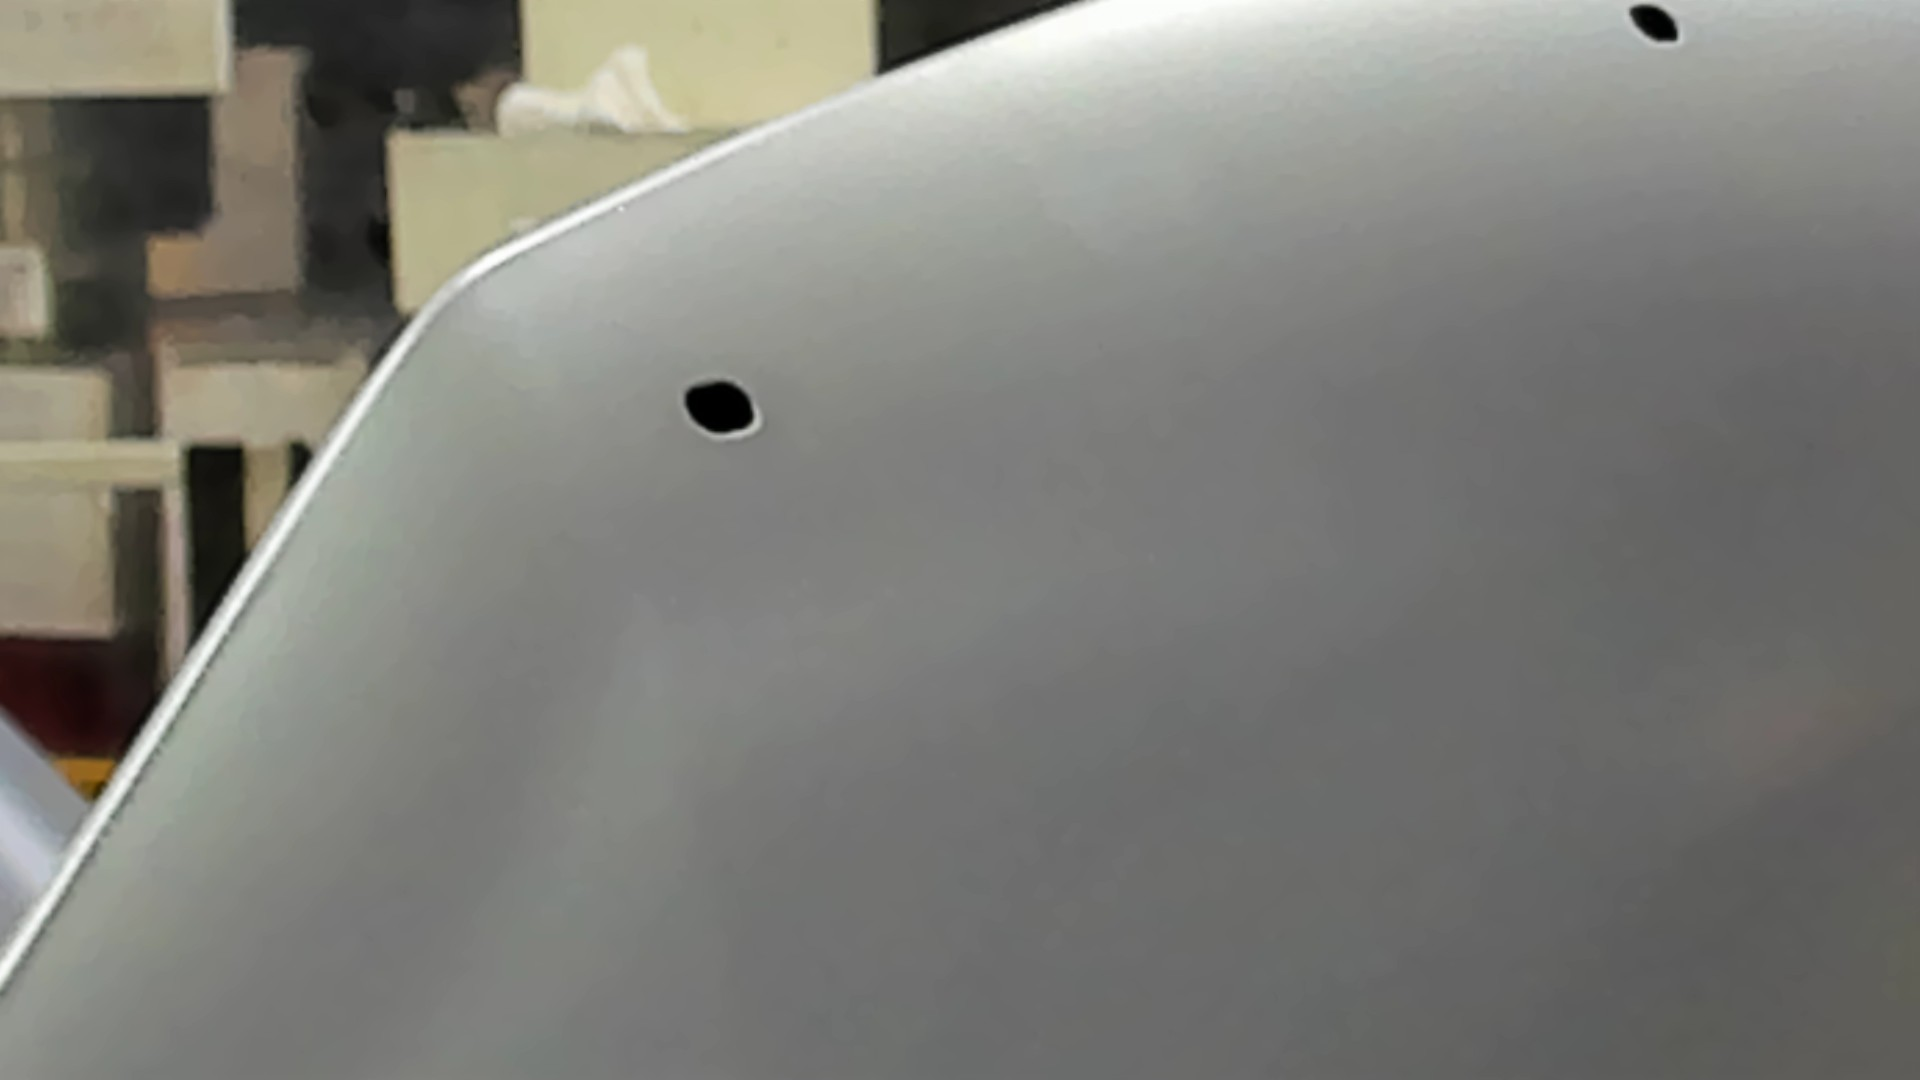amorfo: (674, 375, 766, 440), (1623, 5, 1687, 47)
